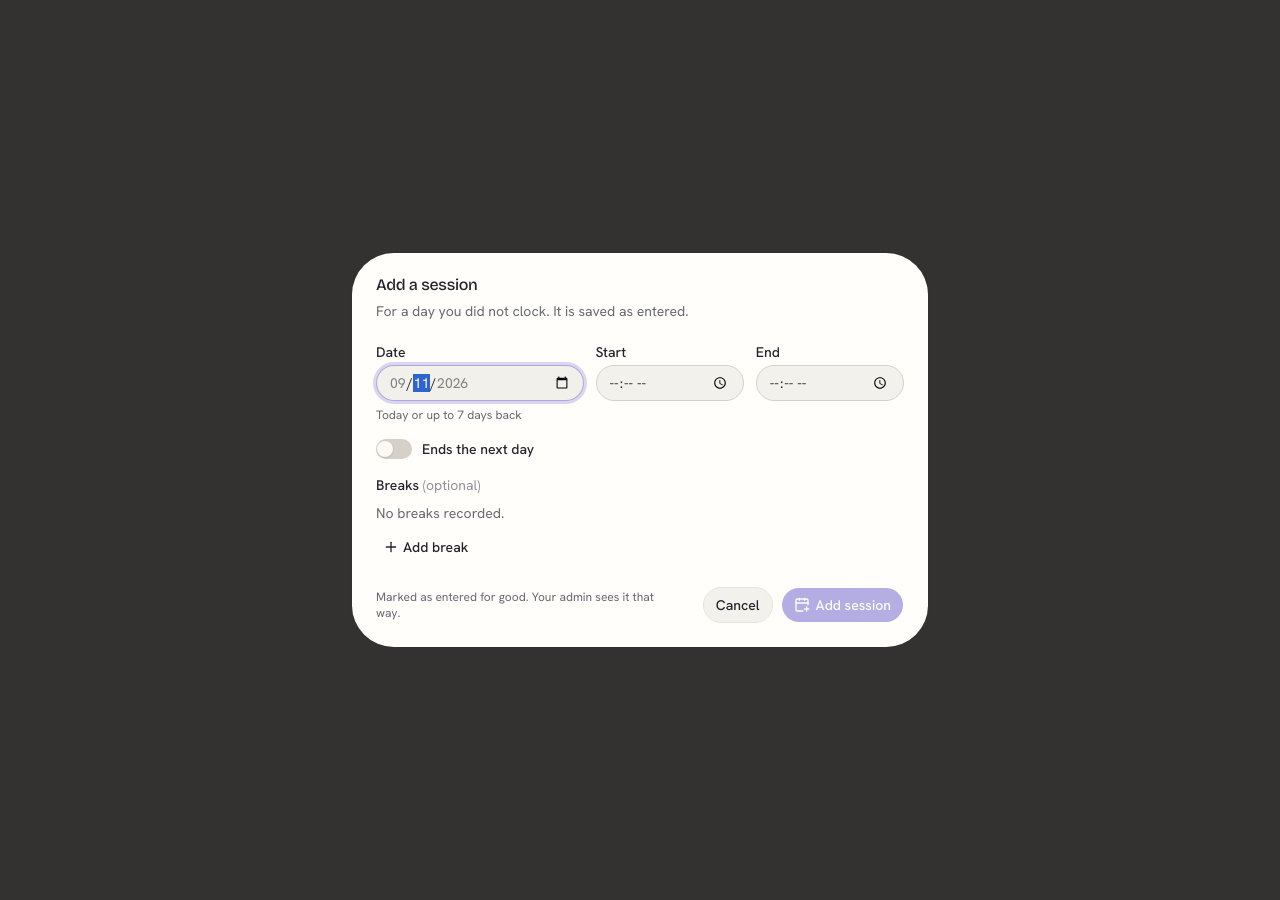
Scenario: EntryDialog › refuses an end later than now
Type "13:00" into the time field labelled "Start" at (670,383), box x1=596 y1=365 x2=744 y2=401
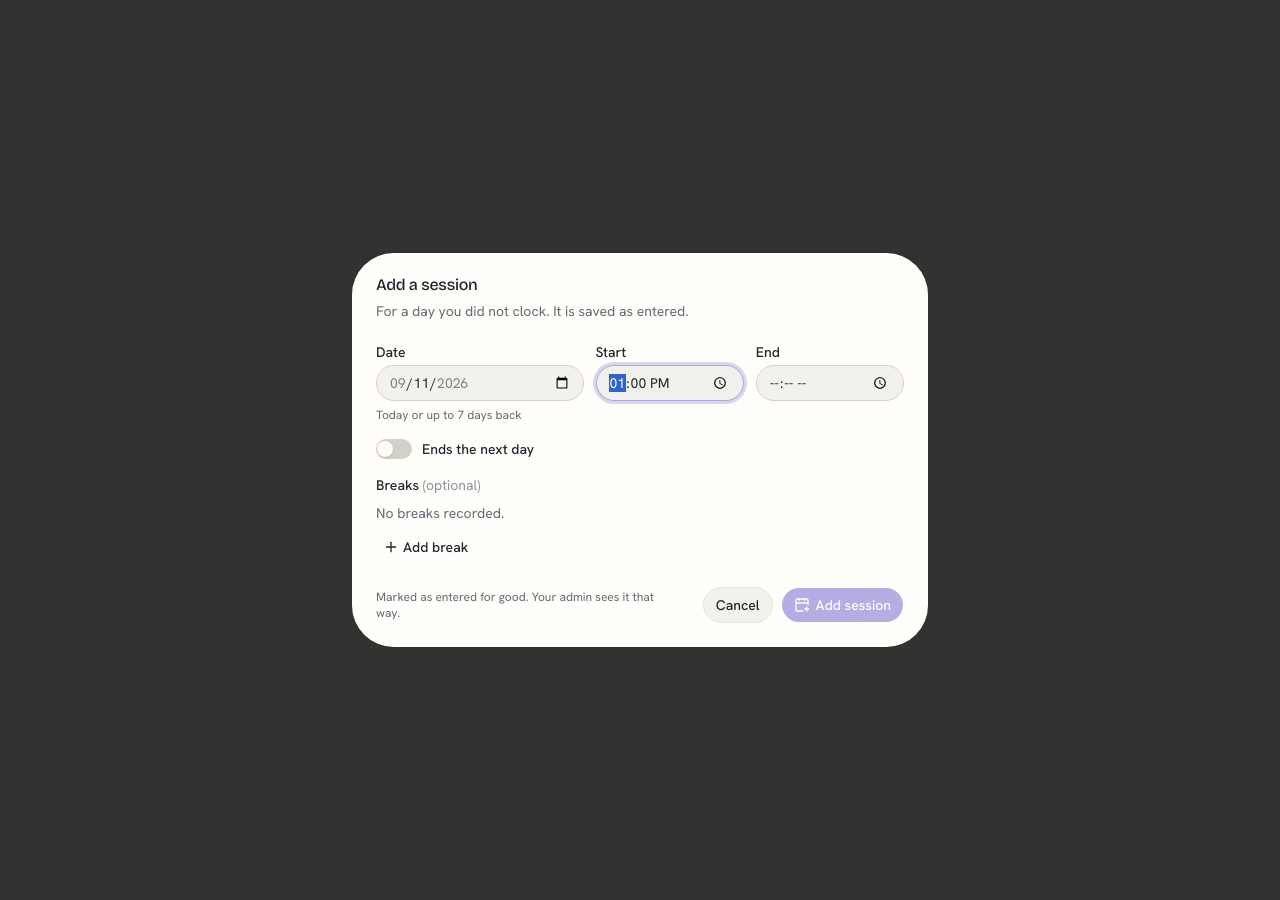
Type "17:00" into the time field labelled "End" at (830,383), box x1=756 y1=365 x2=904 y2=401
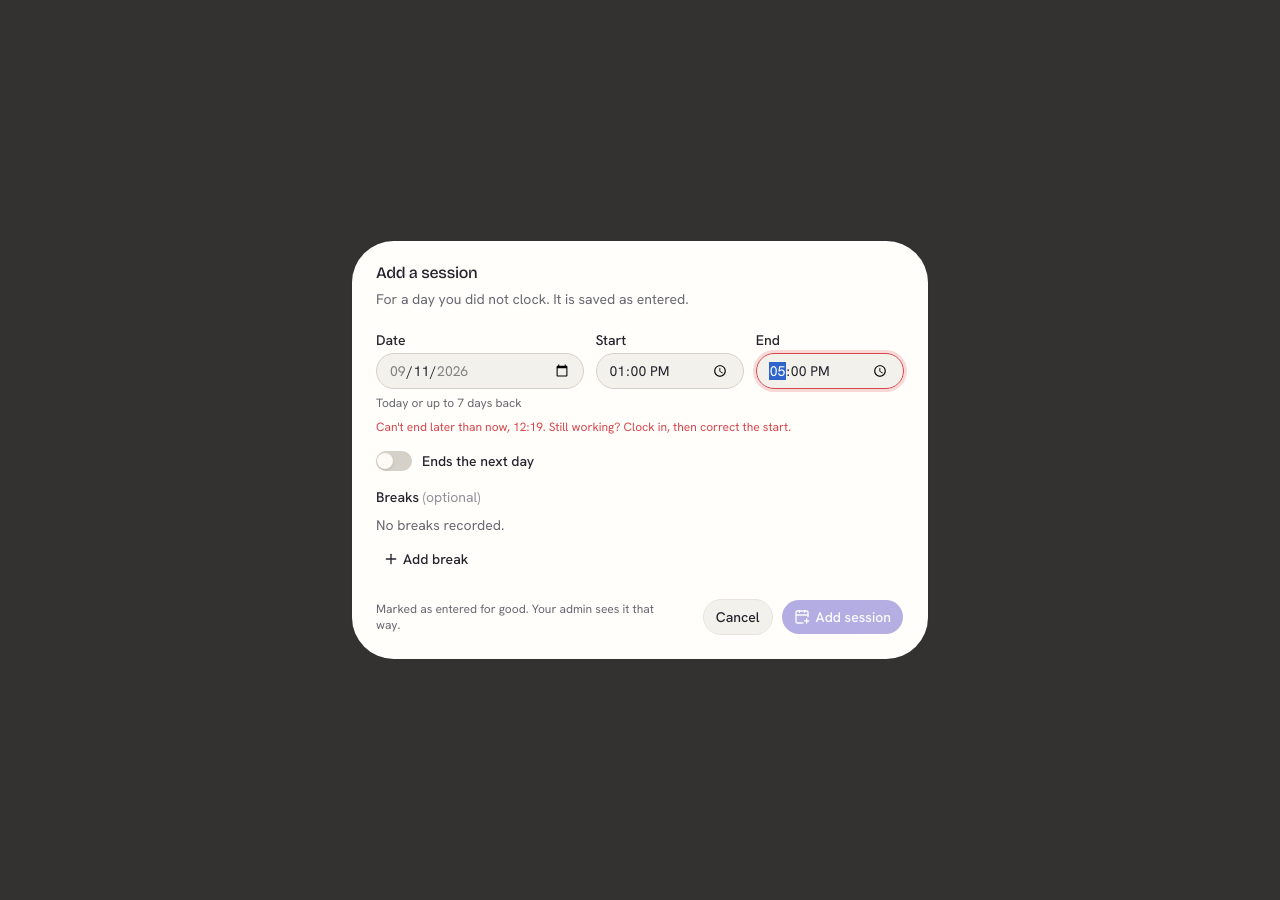
Expected: the button "Add session" is disabled, x1=781 y1=599 x2=904 y2=635
Expected: the text "Can't end later than now, 12:19. Still working? Clock in, then correct the start." is shown, x1=376 y1=419 x2=791 y2=435
